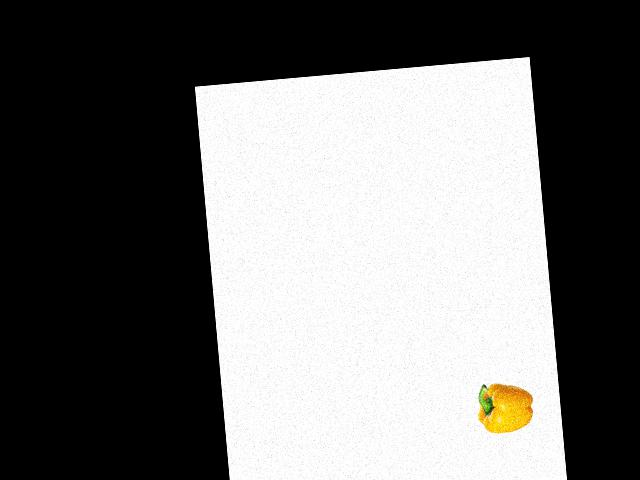bell_pepper: (470, 374, 538, 439)
